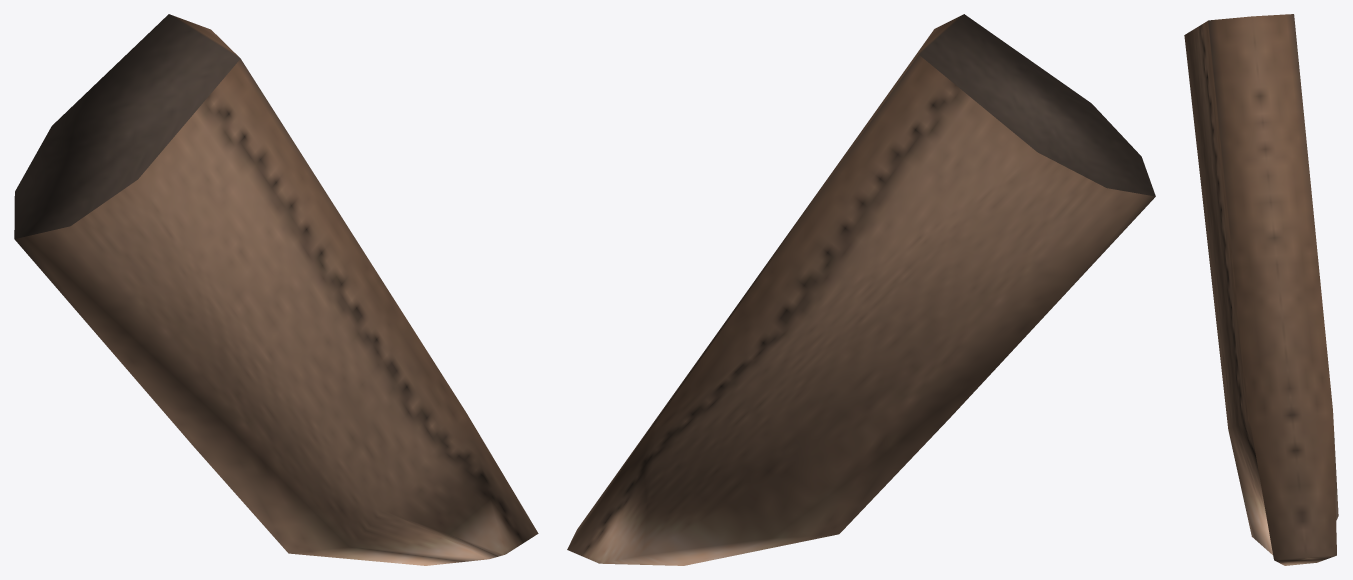
File: quiver_back.glb
The picture shows the model from 3 angles, left to right: view 1: azimuth 30°, elevation 25°; view 2: azimuth 150°, elevation 25°; view 3: azimuth 270°, elevation 25°; orthographic projection. The views are drawn at different scales.
Parts seen in each view (by area): view 1: Quiver; view 2: Quiver; view 3: Quiver.
Part boxes in pixels (<box>): Quiver: <box>14,14,538,565</box>; Quiver: <box>567,14,1155,565</box>; Quiver: <box>1184,14,1338,565</box>.
Bounding box in the file's own units: 0.35 × 0.3684 × 0.1171.
1 material, 1 textured.
